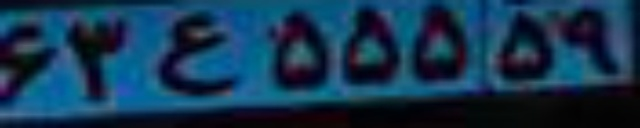3: (63, 16, 139, 104)
5: (272, 9, 331, 92), (340, 6, 398, 88), (409, 6, 468, 82), (491, 9, 552, 82)
6: (0, 23, 55, 107)
9: (560, 6, 623, 76)
ain: (153, 12, 236, 95)
